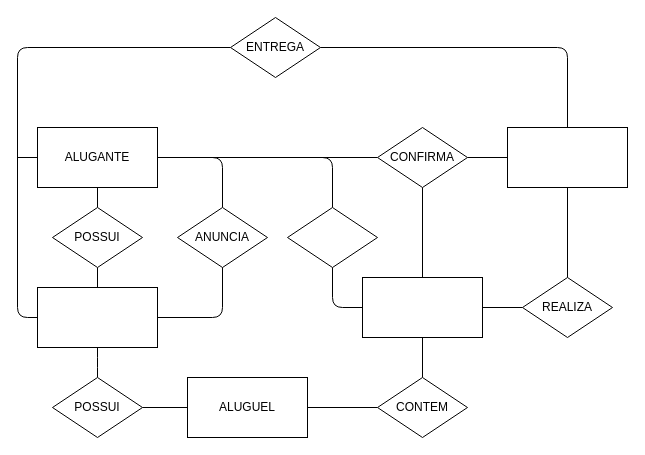
This 645x455 diagram has some shape labels left out. Each missing label, with the centre of its shape:
"ALUGADOR" goes at [567,157].
"PEDIDO" goes at [422,307].
"PRODUTO" goes at [97,317].
"RECEBE" goes at [332,237].
